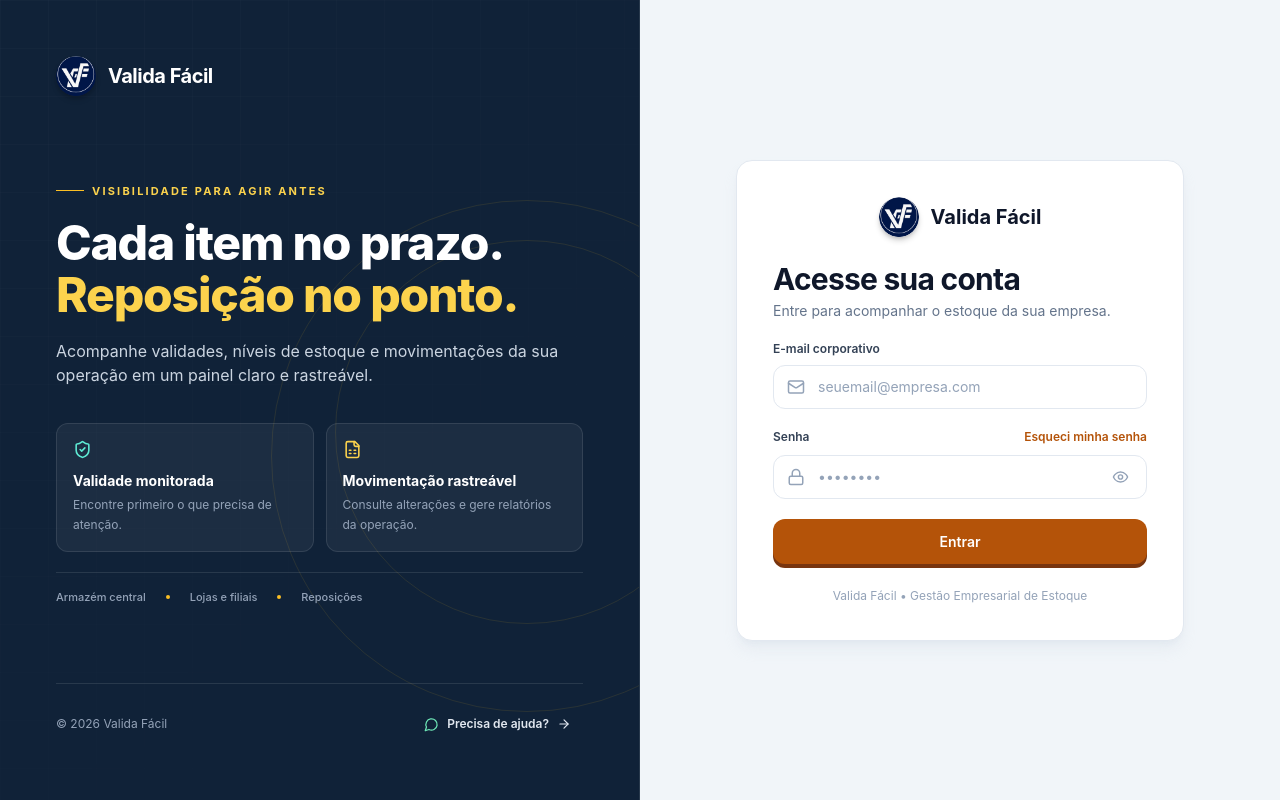
it: LoginPage — esqueci minha senha › clicar em 'Esqueci minha senha' troca pro formulário de recuperação e envia o e-mail certo
Check: the button "Entrar" is enabled, box [773,518,1147,564]
Click the button "Esqueci minha senha" at (1086, 436), box [1024,428,1147,444]
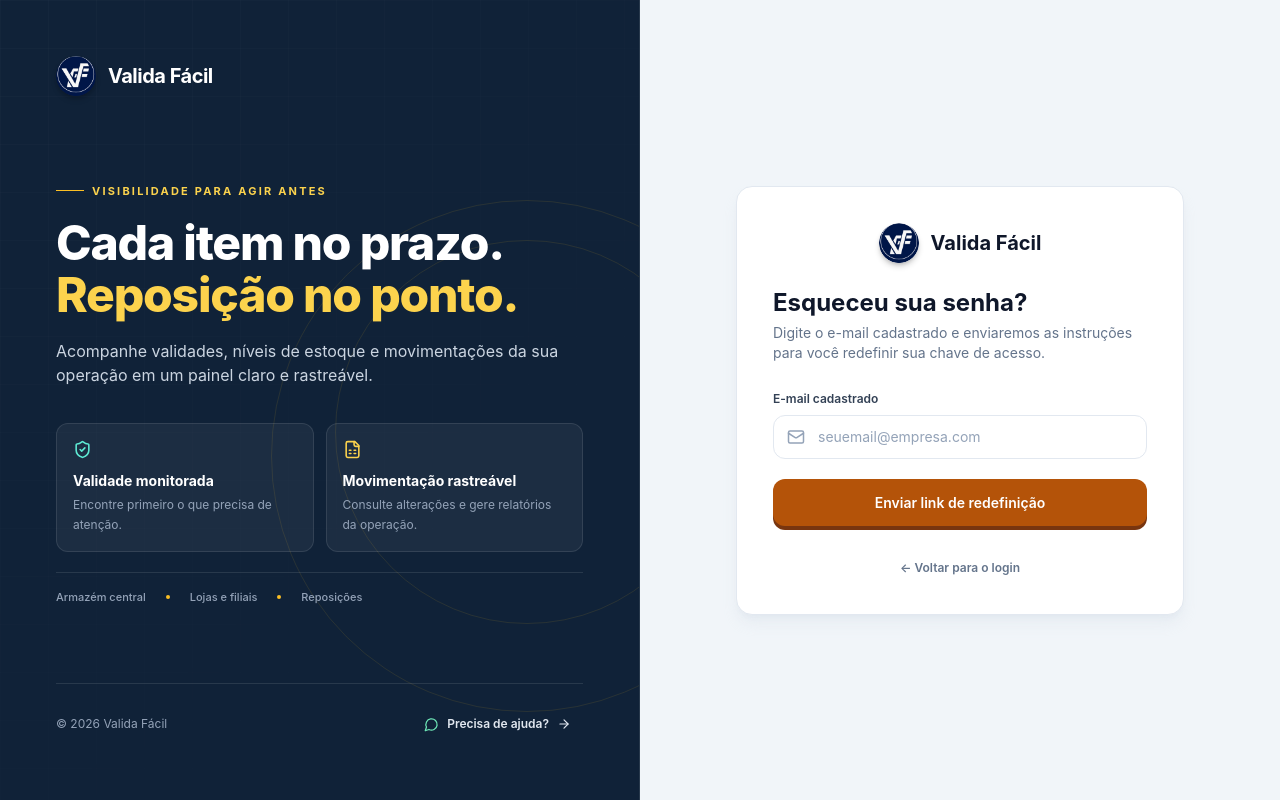
Check: the heading "Esqueceu sua senha?" is shown, box [773,288,1027,316]
Type "usuario@empresa.com" into the field with placeholder "seuemail@empresa.com" at (960, 436), box [773,414,1147,458]
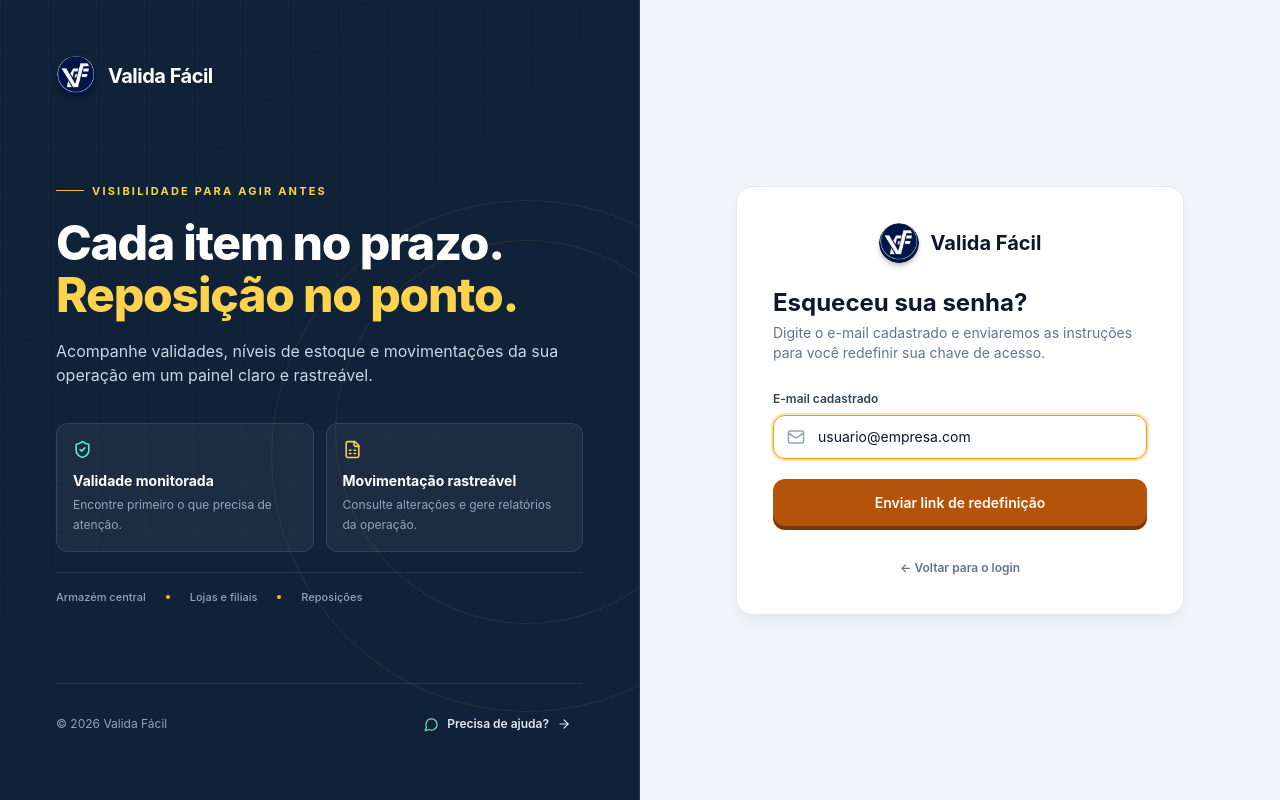
Click the button "Enviar link de redefinição" at (960, 502), box [773,478,1147,526]
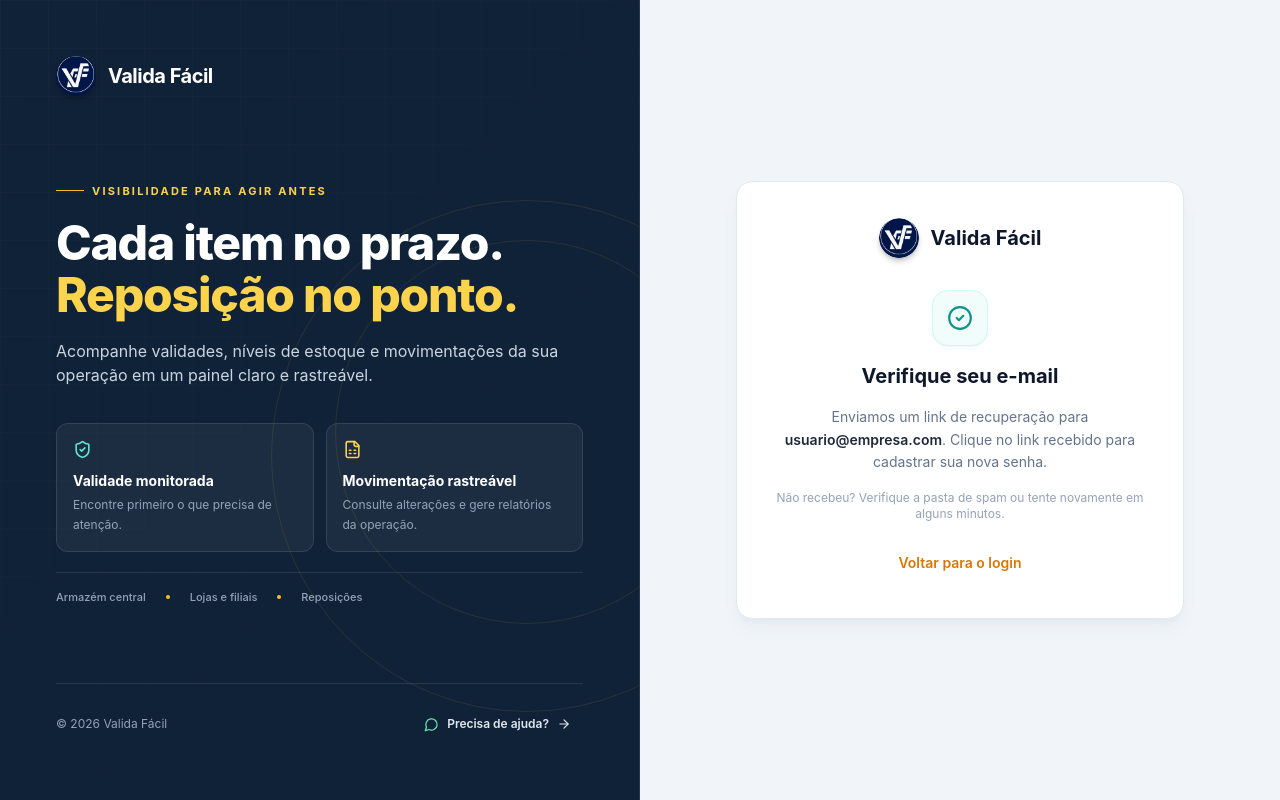
Check: the heading "Verifique seu e-mail" is shown, box [862,364,1058,388]
